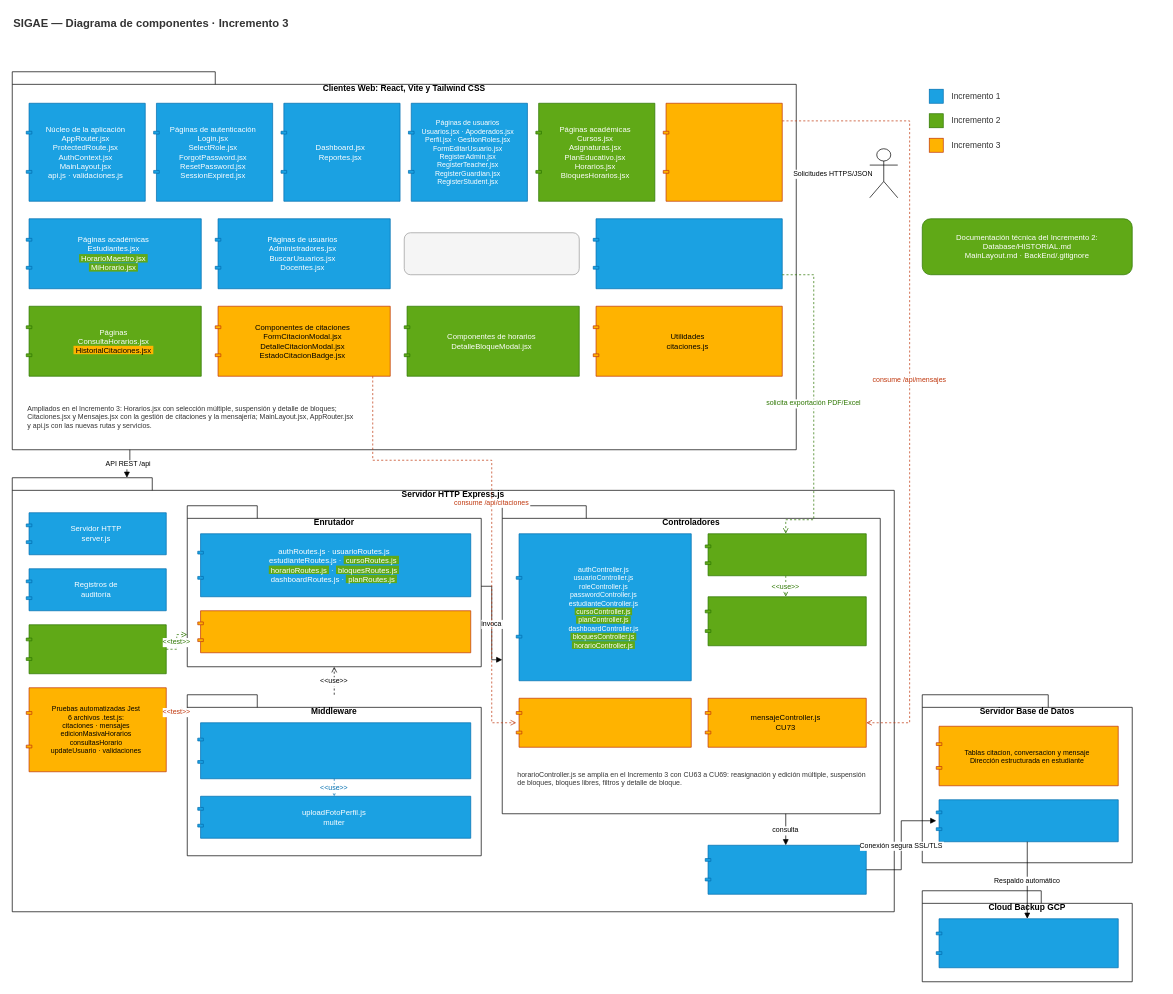
Image size: 1173x994. Some labels were removed from this diagram. The centre of each missing label's shape, as x and y in pixels:
Almacenamiento de respaldos Copias diarias: point (1027, 943)
authMiddleware.js rateLimiter.js validation.js: point (334, 750)
citacionController.js CU74 a CU79: point (603, 722)
citacionRoutes.js mensajeRoutes.js: point (334, 631)
Componentes ExportMenu.jsx ListaEstudiantesApoderado.jsx: point (687, 253)
Conexión Base de Datos config/db.js · mysql2: point (785, 869)
exportController.js CU60 a CU62: point (785, 554)
Librerías de exportación pdfkit · exceljs · puppeteer: point (785, 621)
MySQL SIGAE.sql: point (1027, 820)
Pruebas automatizadas Jest 17 archivos .test.js: point (96, 649)
Páginas de comunicación Citaciones.jsx Mensajes.jsx: point (722, 152)
Sidebar.jsx se integró en MainLayout.jsx durante el Incremento 2.: point (491, 253)
Usuario: point (883, 173)
